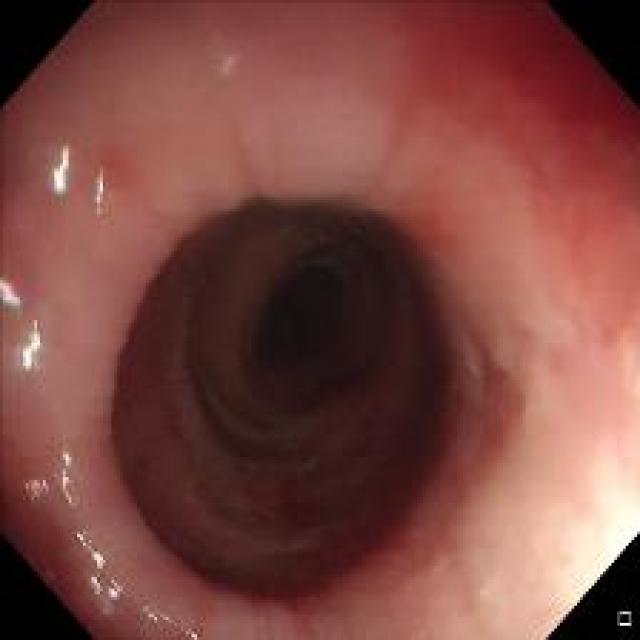color misalignment: (72, 526, 129, 601), (235, 194, 366, 214), (141, 601, 201, 636), (55, 449, 80, 508), (1, 272, 28, 312), (52, 144, 72, 196), (91, 159, 108, 218), (21, 331, 41, 371), (21, 474, 52, 499), (215, 46, 239, 76)
contrast: (116, 185, 478, 591)
saturation: (549, 451, 635, 586)
specularity: (75, 526, 122, 599), (46, 142, 78, 196), (14, 331, 46, 382), (60, 451, 76, 508), (0, 276, 21, 305), (95, 166, 105, 204), (188, 630, 198, 638)
